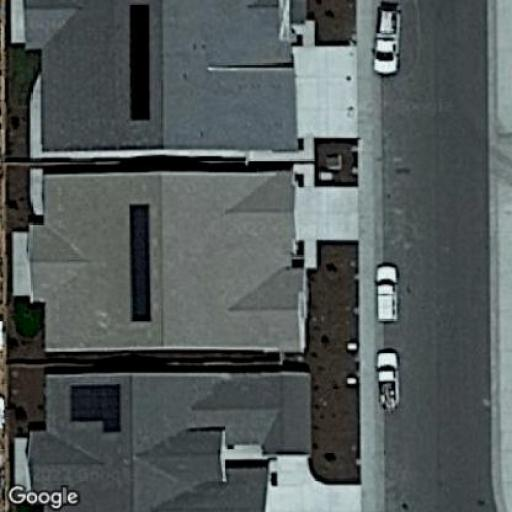solar-panel: (125, 201, 156, 327), (125, 2, 156, 122), (68, 381, 124, 437)
